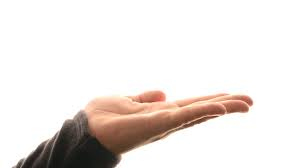hand: (62, 70, 259, 149)
